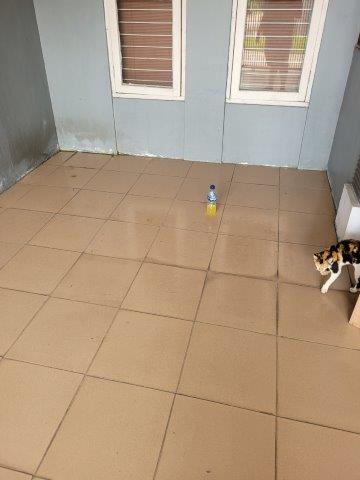botolplastik: (207, 184, 218, 217)
